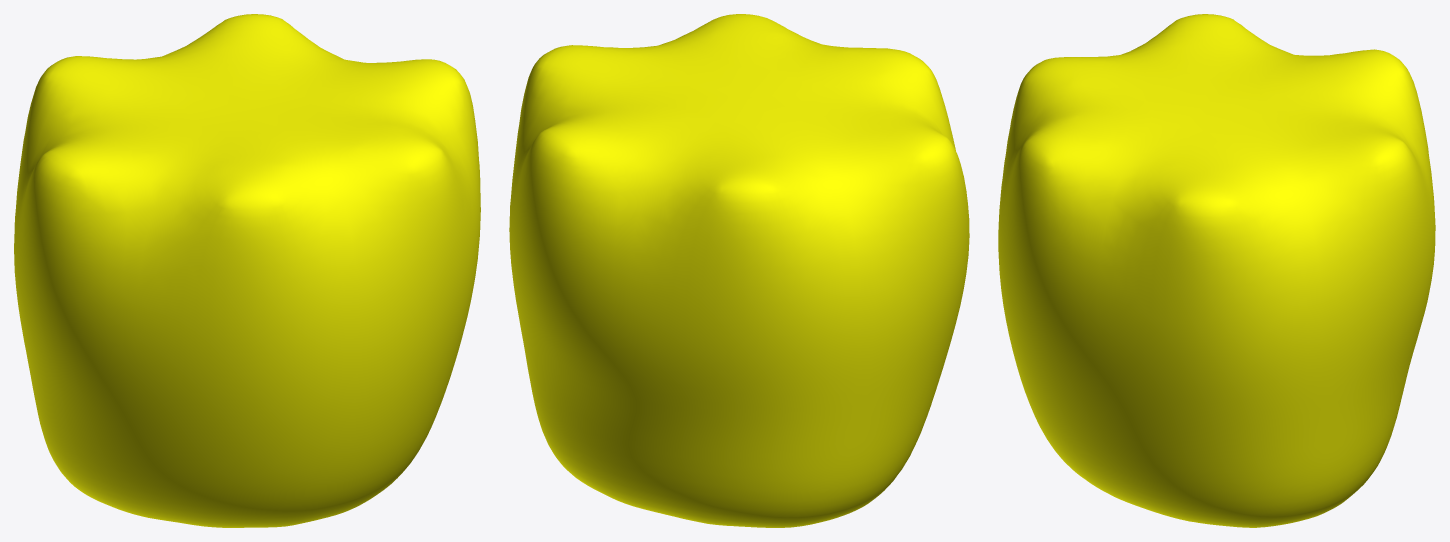
File: plant-f.q.glb
3 views of the same model, side by side, from view 1: azimuth 30°, elevation 25°; view 2: azimuth 150°, elevation 25°; view 3: azimuth 270°, elevation 25° (orthographic). The views are drawn at different scales.
Parts seen in each view (by area): view 1: PlantFMorph.001; view 2: PlantFMorph.001; view 3: PlantFMorph.001.
Boxes of the visible parts, left/top/right/bottom form: PlantFMorph.001: left=14, top=14, right=480, bottom=527; PlantFMorph.001: left=509, top=14, right=969, bottom=527; PlantFMorph.001: left=998, top=14, right=1435, bottom=527.
Size of the model in its own units: 0.9816 by 0.8281 by 0.8855.
Materials: 1 (1 with a texture image).
